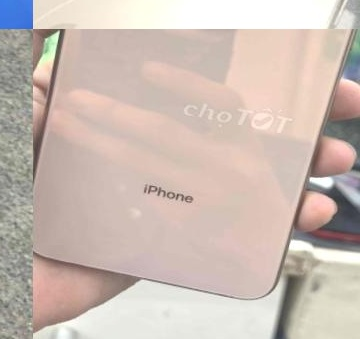physical_damage: (76, 0, 205, 20), (33, 0, 121, 29)
